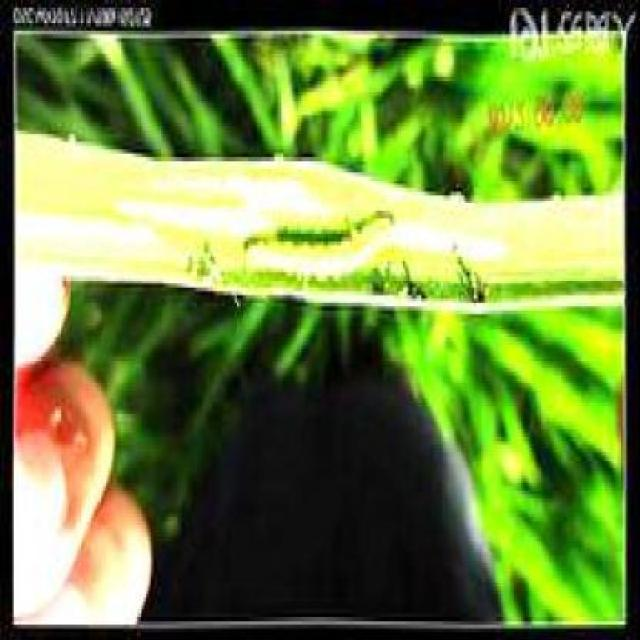leaf-folder: (232, 176, 402, 306)
